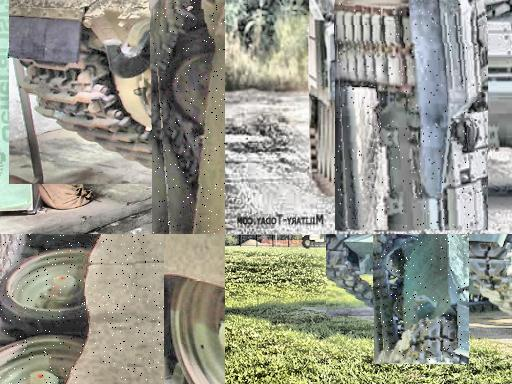tanks: (335, 1, 489, 230), (1, 235, 165, 384), (154, 1, 226, 235), (377, 235, 470, 364)
